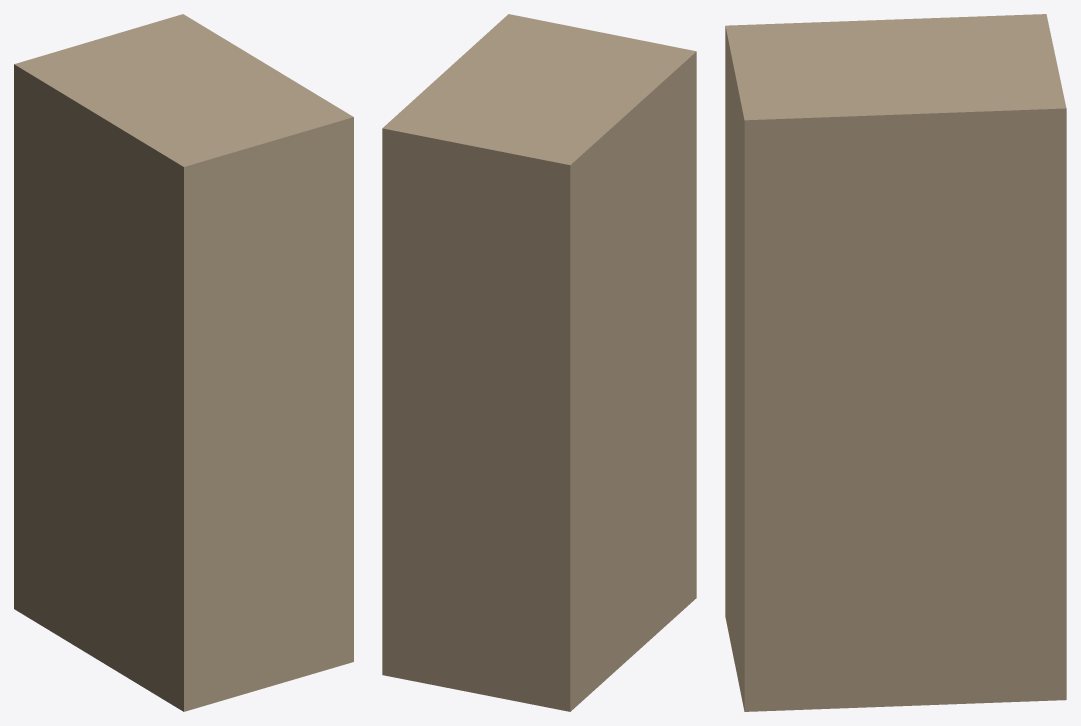
The model's file is bld_393483725.dae.
3 views of the same model, side by side, from view 1: azimuth 30°, elevation 25°; view 2: azimuth 150°, elevation 25°; view 3: azimuth 270°, elevation 25° (orthographic). The views are drawn at different scales.
Visible parts, largest first — view 1: bld_393483725; view 2: bld_393483725; view 3: bld_393483725.
Part boxes in pixels (x1,y1,x2,y2): bld_393483725: [14, 14, 353, 711]; bld_393483725: [382, 14, 696, 711]; bld_393483725: [725, 14, 1066, 711].
Bounding box in the file's own units: 3.08 × 4.18 × 8.
